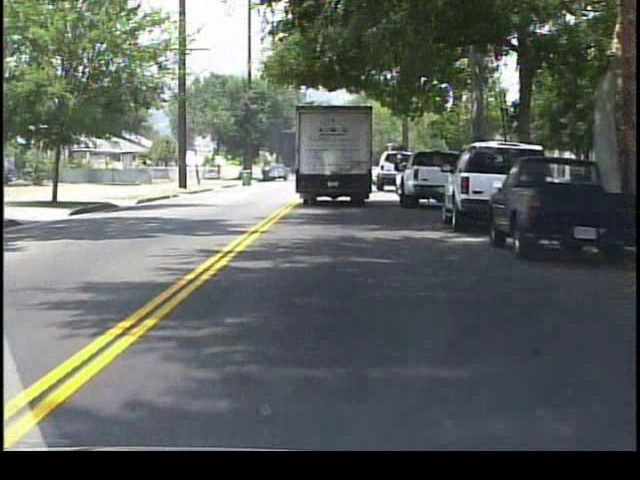person: (217, 163, 224, 182)
